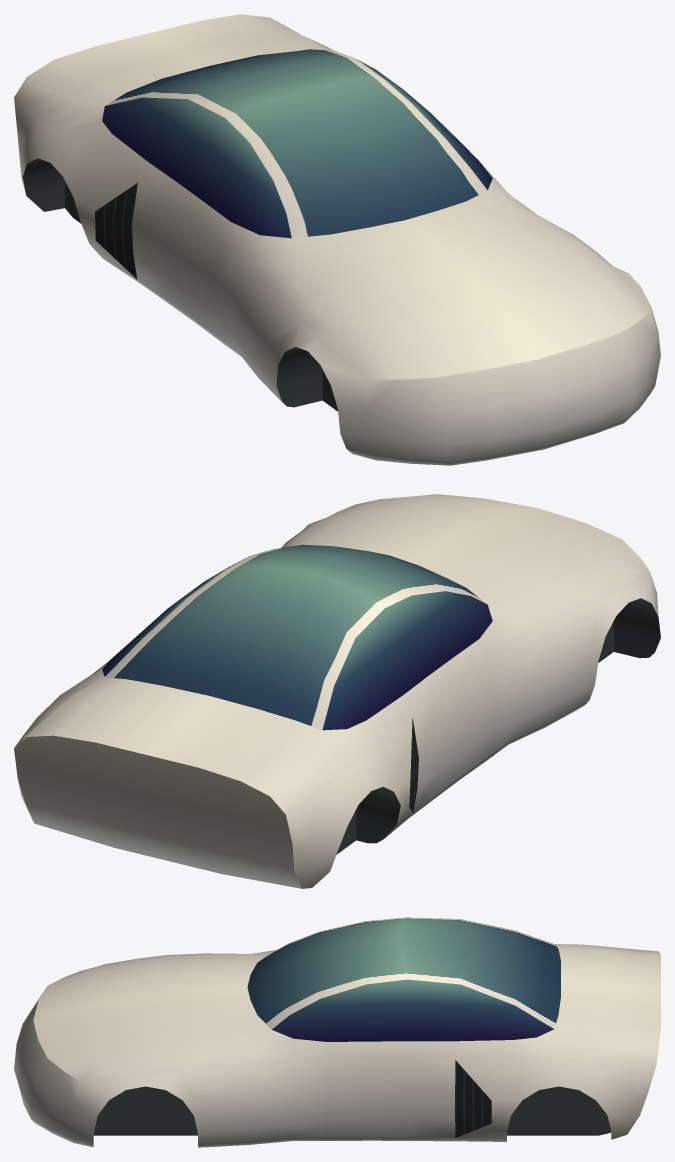
File: Vehicles.fbx
The picture shows the model from 3 angles, top to bottom: view 1: azimuth 30°, elevation 25°; view 2: azimuth 150°, elevation 25°; view 3: azimuth 270°, elevation 25°; orthographic projection. The views are drawn at different scales.
Visible parts, largest first — view 1: Sedan; view 2: Sedan; view 3: Sedan.
Boxes of the visible parts, bbox=[...] form: Sedan: bbox=[14, 14, 660, 465]; Sedan: bbox=[14, 494, 660, 888]; Sedan: bbox=[14, 917, 660, 1147].
Size of the model in its own units: 1.7 by 0.9662 by 3.7.
